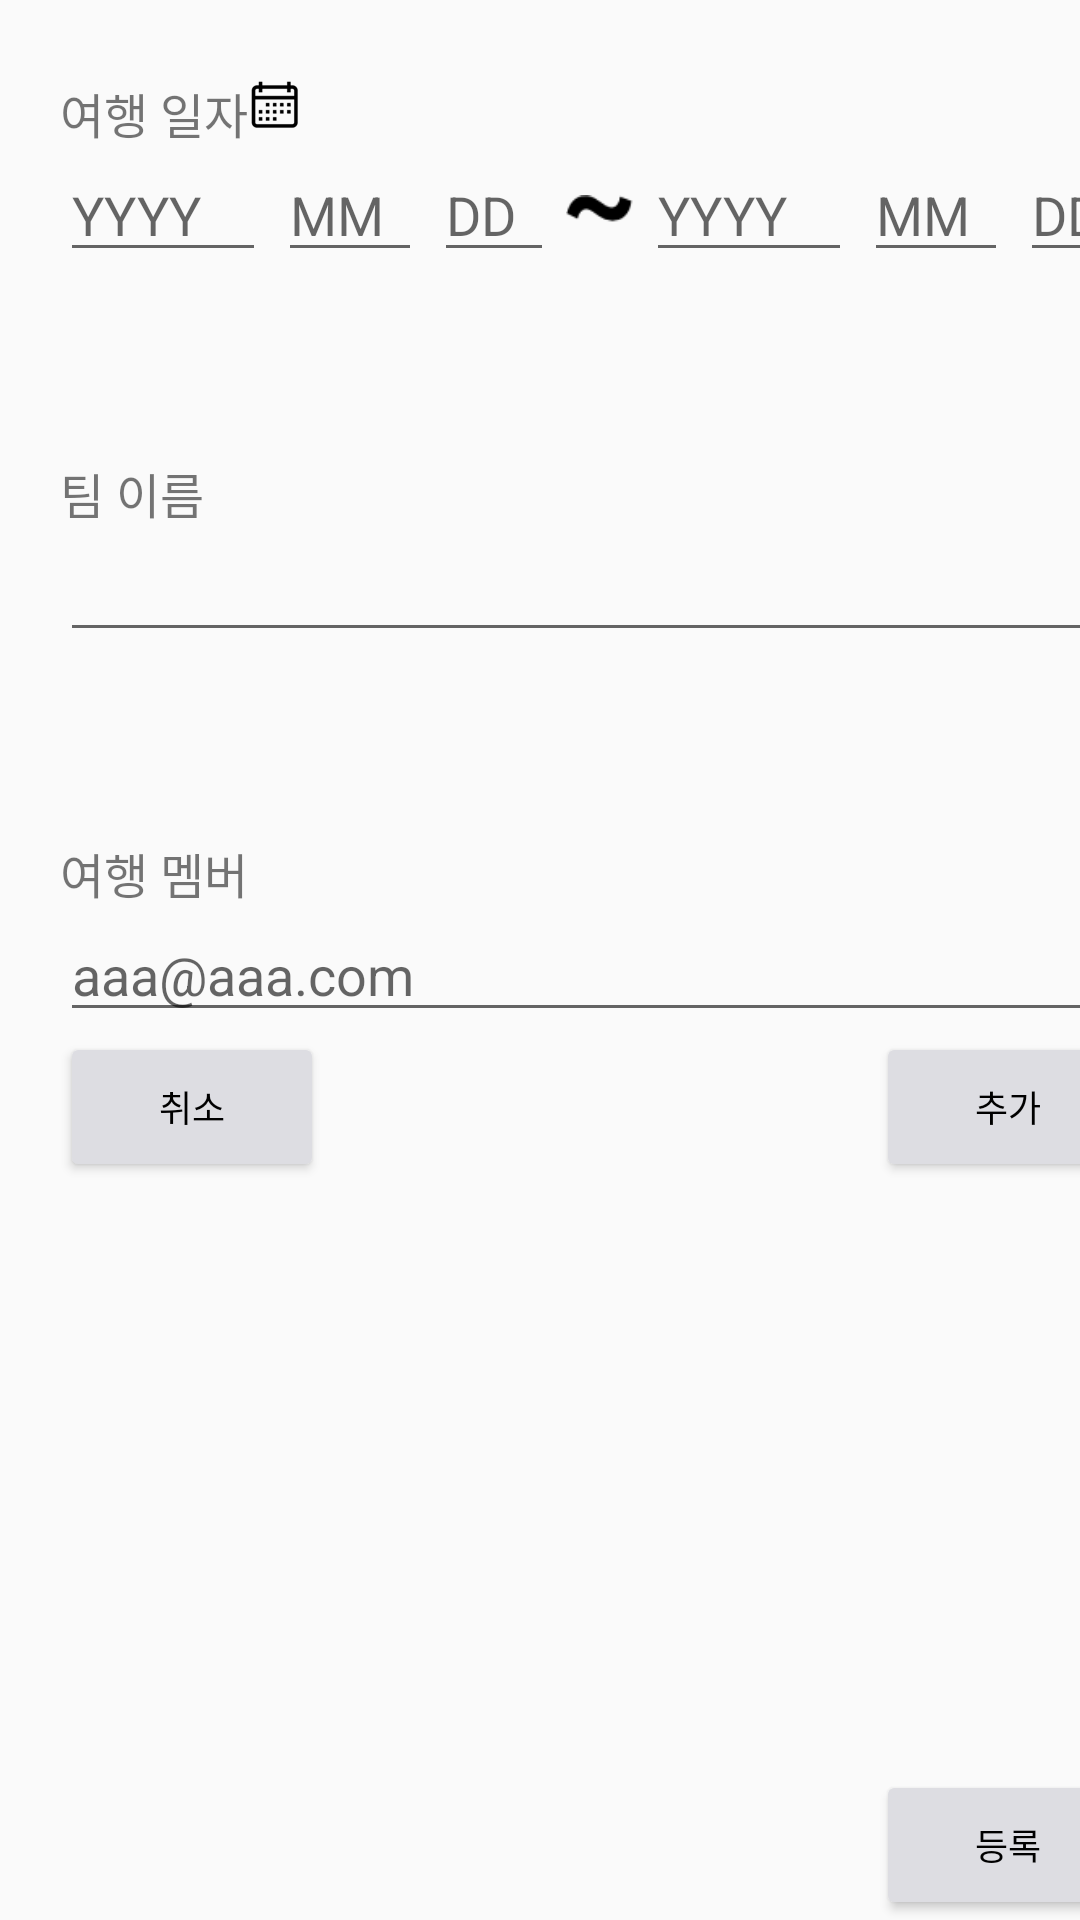

Icon click points for this 1080 x 1920 phone screenshot, format (x=x, y=y):
calendar images: (x=274, y=104)
wave: (x=599, y=208)
